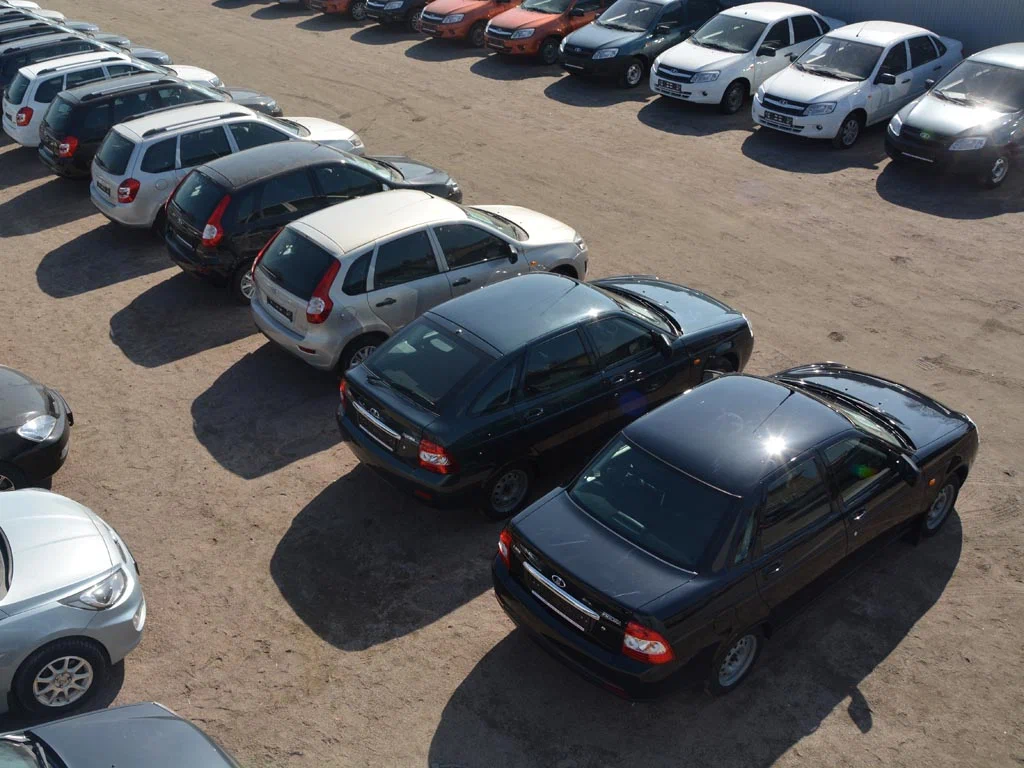Car: (491, 363, 980, 692), (337, 272, 754, 517), (250, 190, 589, 372), (162, 140, 463, 302), (89, 100, 364, 229), (0, 486, 147, 718), (751, 19, 964, 148), (37, 70, 283, 180), (1, 48, 225, 149), (648, 2, 845, 114), (885, 42, 1024, 187), (0, 702, 240, 768), (558, 0, 735, 89), (0, 30, 174, 112), (0, 365, 74, 490), (485, 0, 617, 65), (418, 0, 525, 46), (0, 17, 130, 46), (0, 8, 99, 32), (364, 0, 435, 32), (0, 0, 65, 21), (310, 0, 366, 21), (1, 0, 42, 9), (277, 0, 312, 10)
